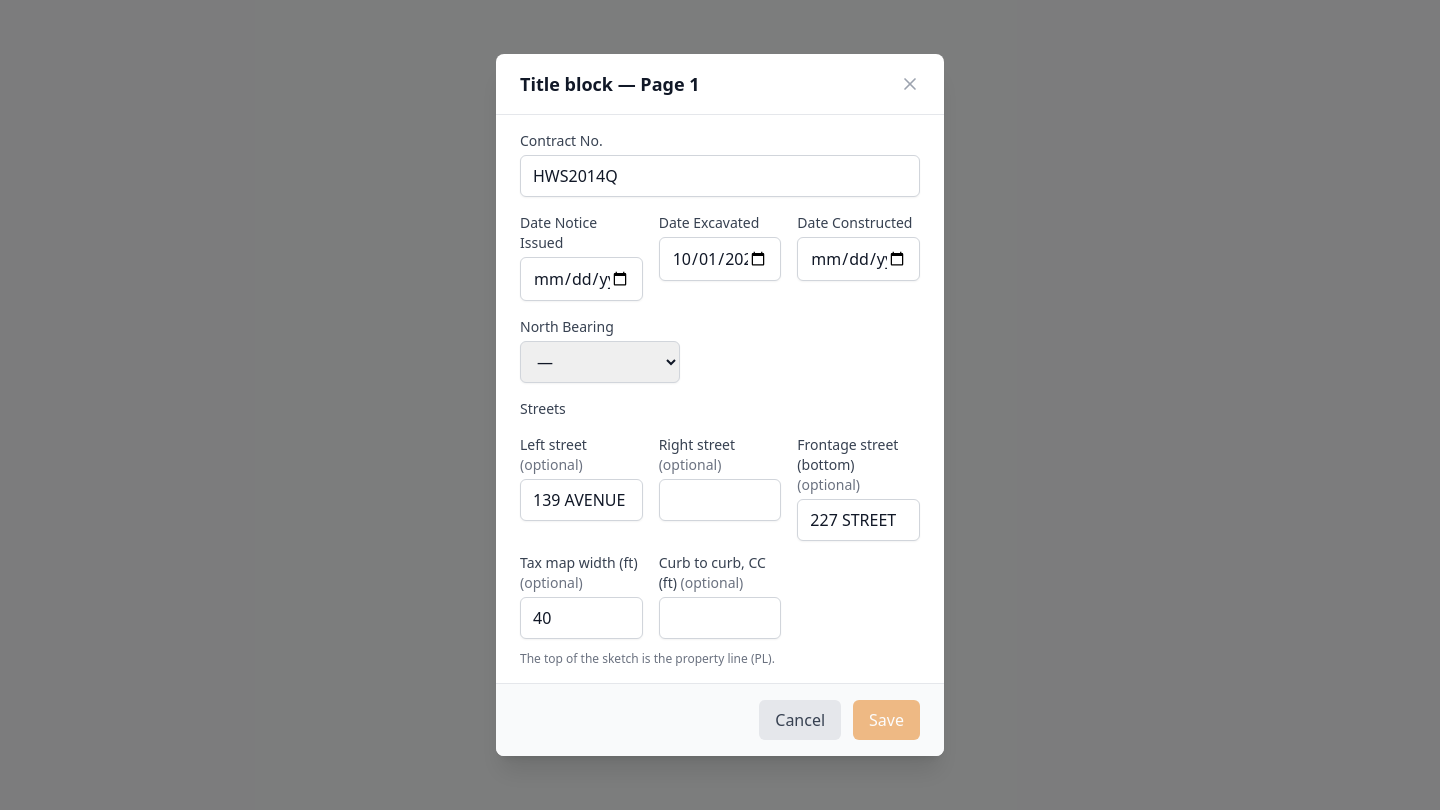
Test case: TitleBlockEditor › shows a width the backend refuses under Save
The width and height of the screenshot is (1440, 810).
Replace the text in the field labelled "Tax map width (ft) (optional)" with "-4" at (581, 618), box 520,597 -> 643,639
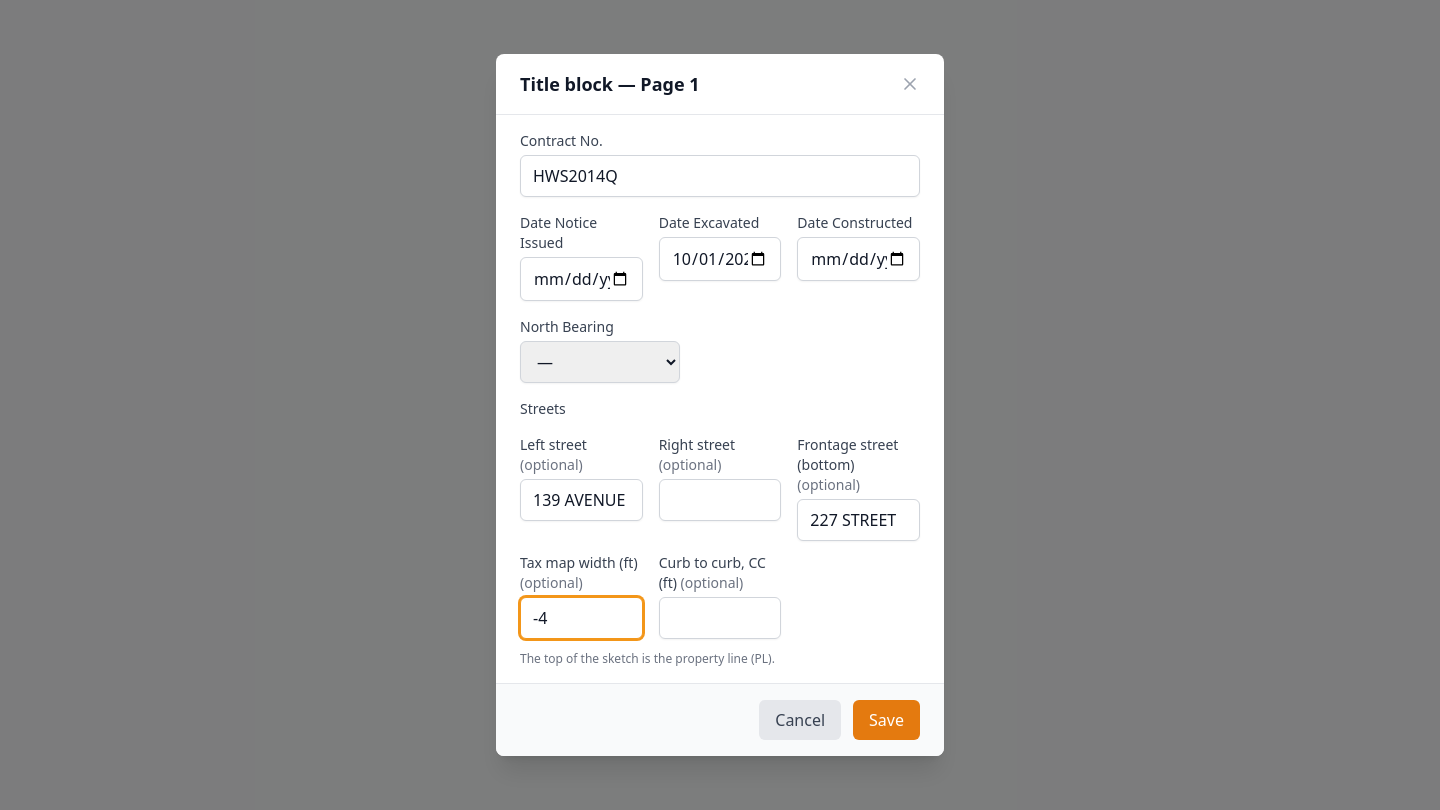
Click the button "Save" at (887, 720), box 853,700 -> 920,740
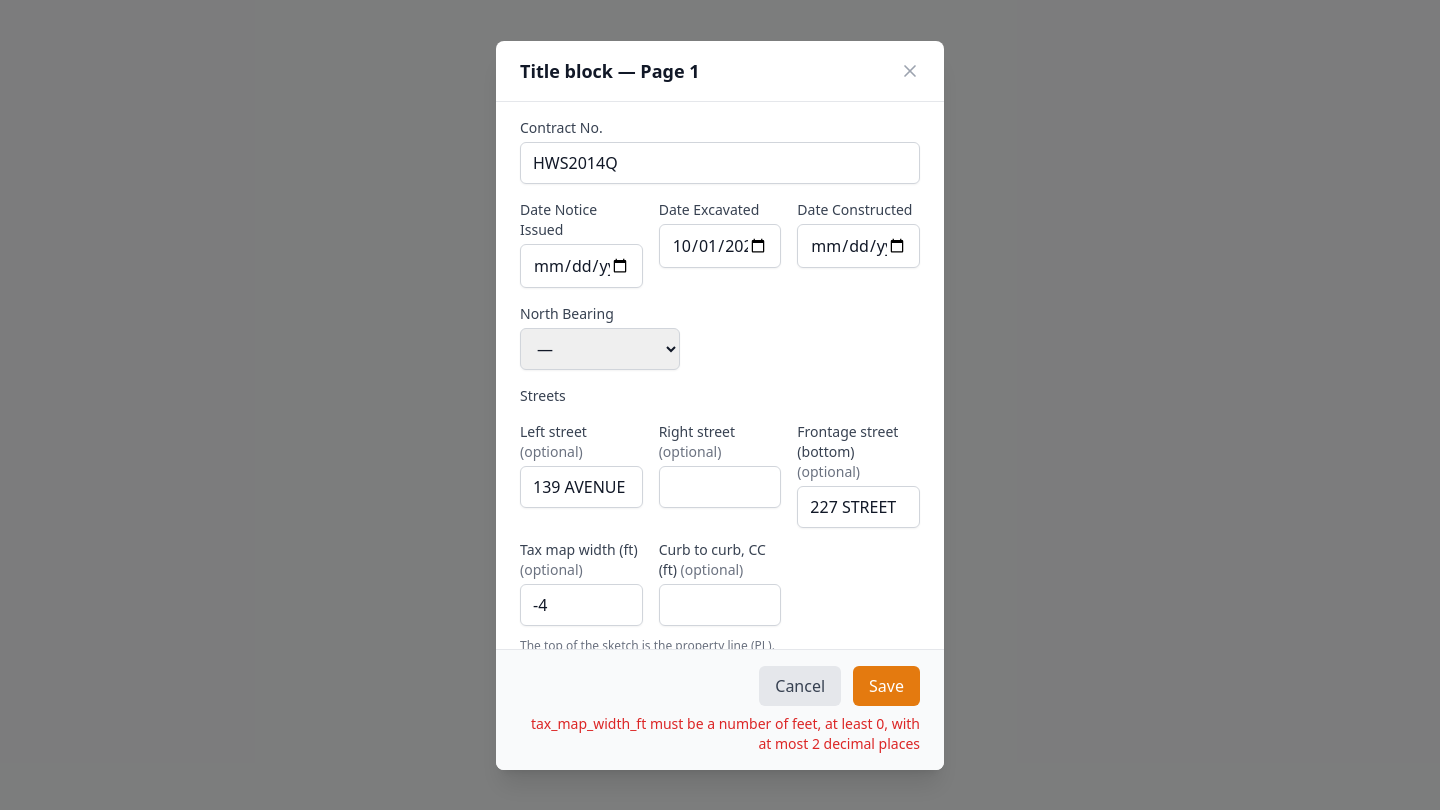
Check: the message shows "tax_map_width_ft must be a number of feet", box 531,714 -> 920,752
